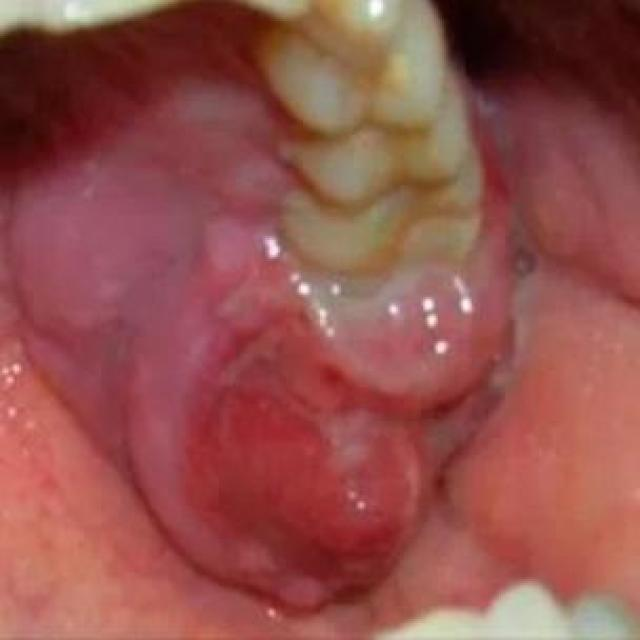cancer-detection: (148, 237, 514, 619)
processing_area: (0, 67, 638, 638)
